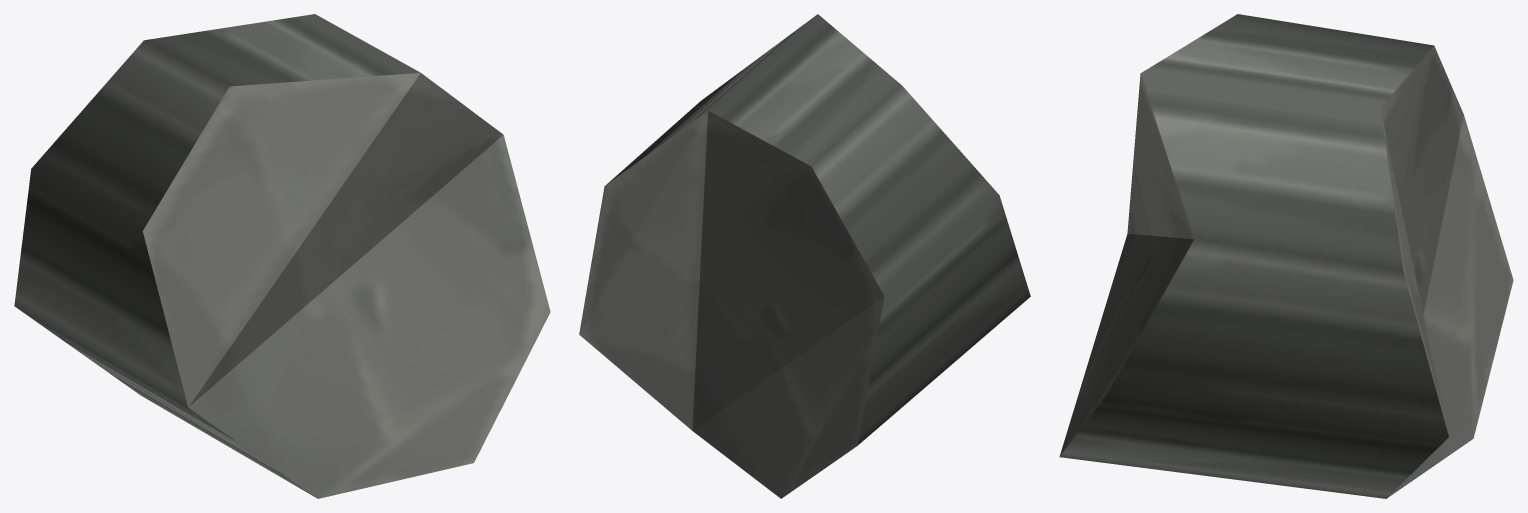
File: sc_dungeon_moshenta_zhuzi_002_d.FBX
3 renders of one model, left to right at view 1: azimuth 30°, elevation 25°; view 2: azimuth 150°, elevation 25°; view 3: azimuth 270°, elevation 25°, orthographic. The views are drawn at different scales.
Visible parts, largest first — view 1: sc_dungeon_moshenta_zhuzi_002_d; view 2: sc_dungeon_moshenta_zhuzi_002_d; view 3: sc_dungeon_moshenta_zhuzi_002_d.
Part boxes in pixels (box(x1,y1,x2,y2)): sc_dungeon_moshenta_zhuzi_002_d: box(14, 14, 550, 498); sc_dungeon_moshenta_zhuzi_002_d: box(579, 14, 1030, 498); sc_dungeon_moshenta_zhuzi_002_d: box(1059, 14, 1513, 498).
Bounding box in the file's own units: 1.21 × 1.24 × 1.28.
Materials: 1 (1 with a texture image).
